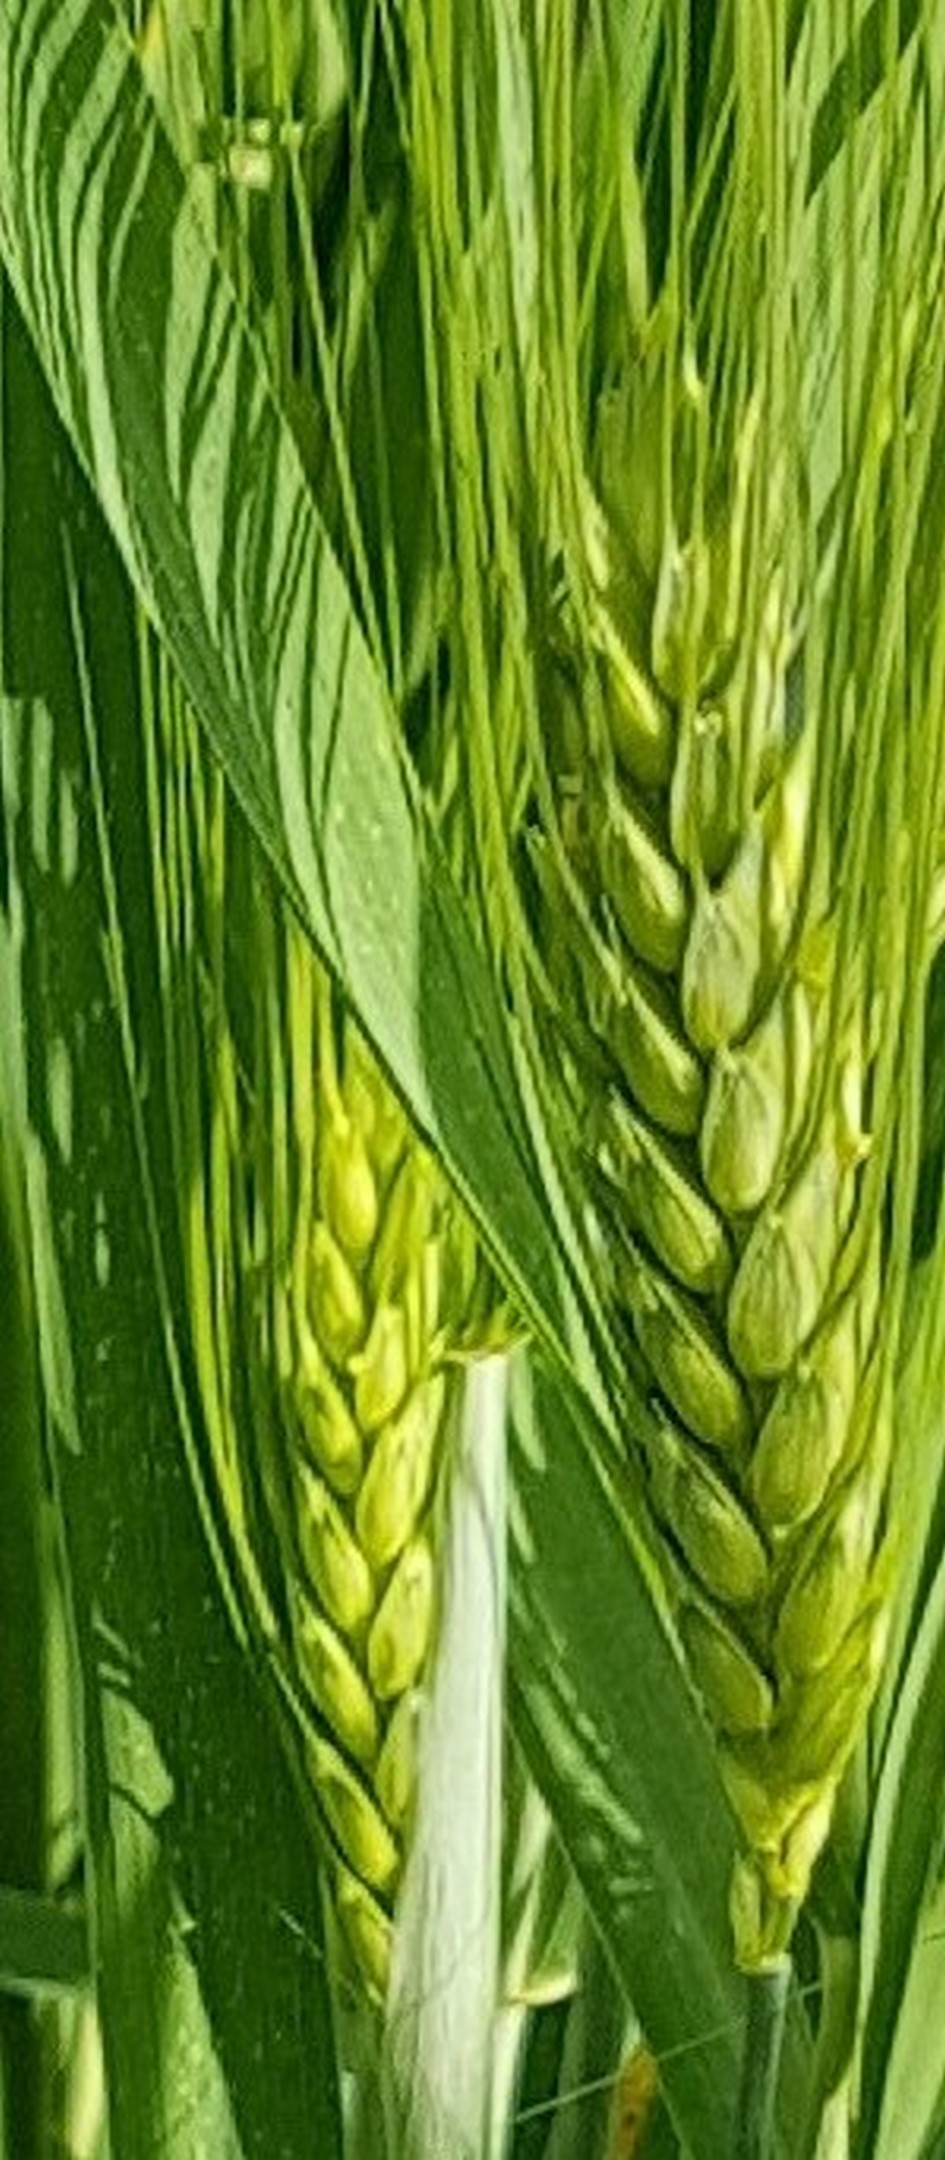Healthy Wheat: (492, 422, 945, 1854)
